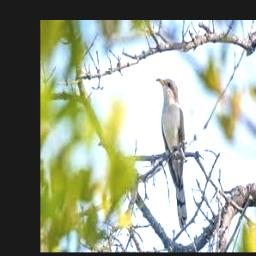Cuckoo: (155, 77, 187, 230)
